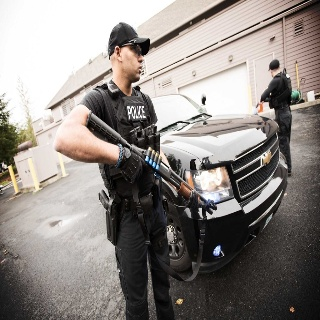rifle: (85, 110, 217, 216)
